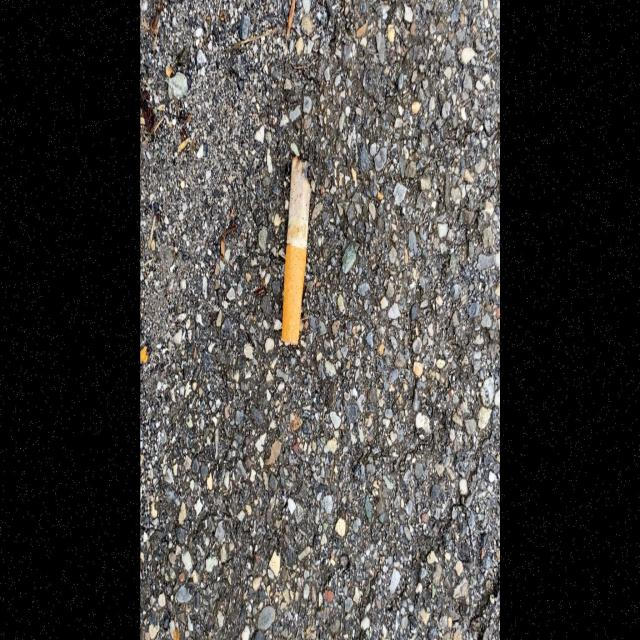other waste: (280, 156, 312, 347)
